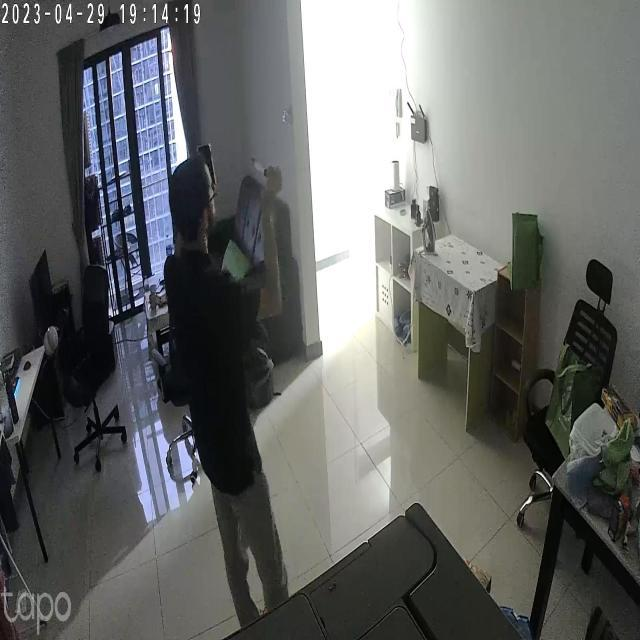Knife: (242, 150, 283, 189)
